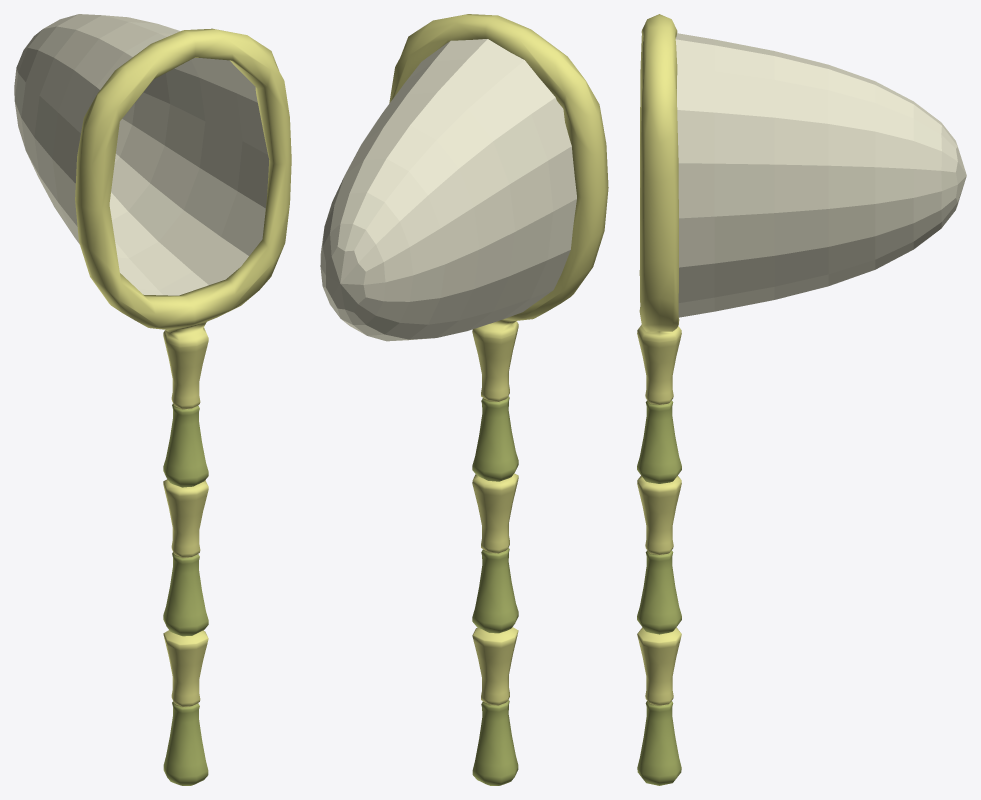
Rendered from SBNet.fbx.
3 renders of one model, left to right at view 1: azimuth 30°, elevation 25°; view 2: azimuth 150°, elevation 25°; view 3: azimuth 270°, elevation 25°, orthographic.
Parts seen in each view (by area): view 1: net_Sphere.001, wood_Cube.001; view 2: net_Sphere.001, wood_Cube.001; view 3: net_Sphere.001, wood_Cube.001.
Part boxes in pixels (<box>): net_Sphere.001: <box>14,14,269,295</box>; wood_Cube.001: <box>75,28,291,785</box>; net_Sphere.001: <box>320,39,576,341</box>; wood_Cube.001: <box>389,14,608,785</box>; net_Sphere.001: <box>675,33,966,317</box>; wood_Cube.001: <box>637,14,681,785</box>.
Size of the model in its own units: 629 by 2161 by 853.
